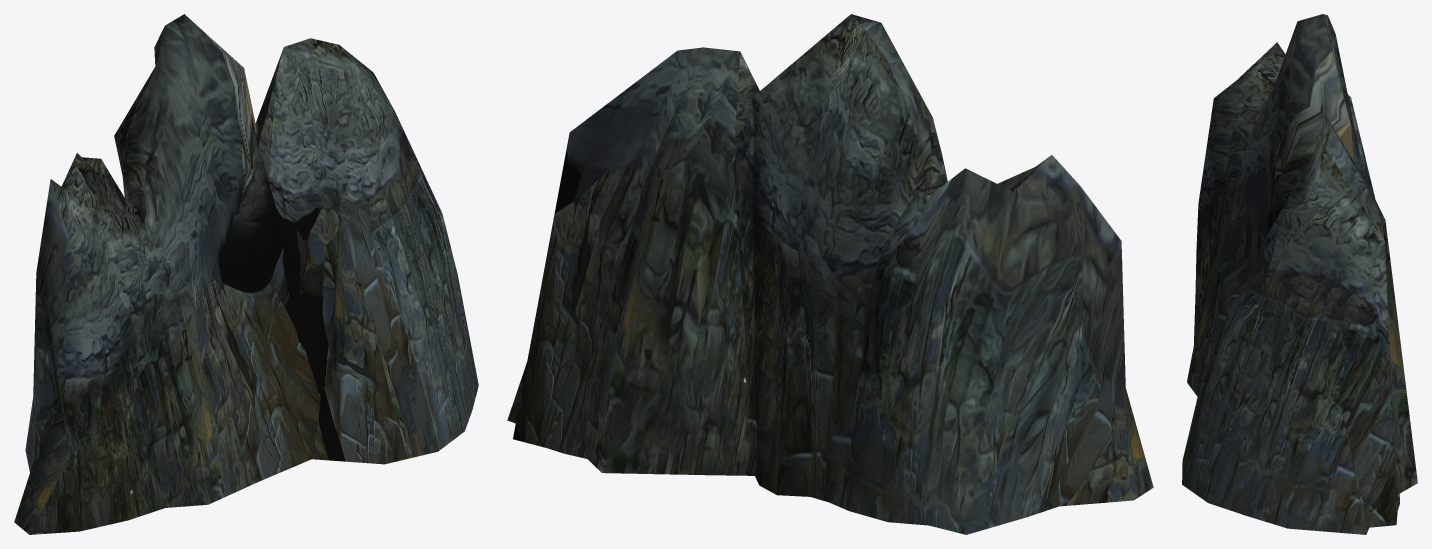
File: Maincity_Strone_01.FBX
3 renders of one model, left to right at view 1: azimuth 30°, elevation 25°; view 2: azimuth 150°, elevation 25°; view 3: azimuth 270°, elevation 25°, orthographic. The views are drawn at different scales.
Parts seen in each view (by area): view 1: Maincity_Strone_01; view 2: Maincity_Strone_01; view 3: Maincity_Strone_01.
Boxes of the visible parts, left/top/right/bottom form: Maincity_Strone_01: left=14, top=14, right=478, bottom=534; Maincity_Strone_01: left=507, top=14, right=1153, bottom=534; Maincity_Strone_01: left=1182, top=14, right=1417, bottom=534.
Size of the model in its own units: 2049 by 1646 by 899.
